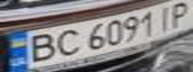0: (103, 17, 127, 47)
1: (136, 8, 163, 37)
6: (81, 20, 109, 51)
9: (121, 12, 145, 43)
B: (15, 30, 66, 63)
C: (45, 26, 84, 57)
I: (151, 2, 181, 32)
P: (163, 0, 193, 29)
